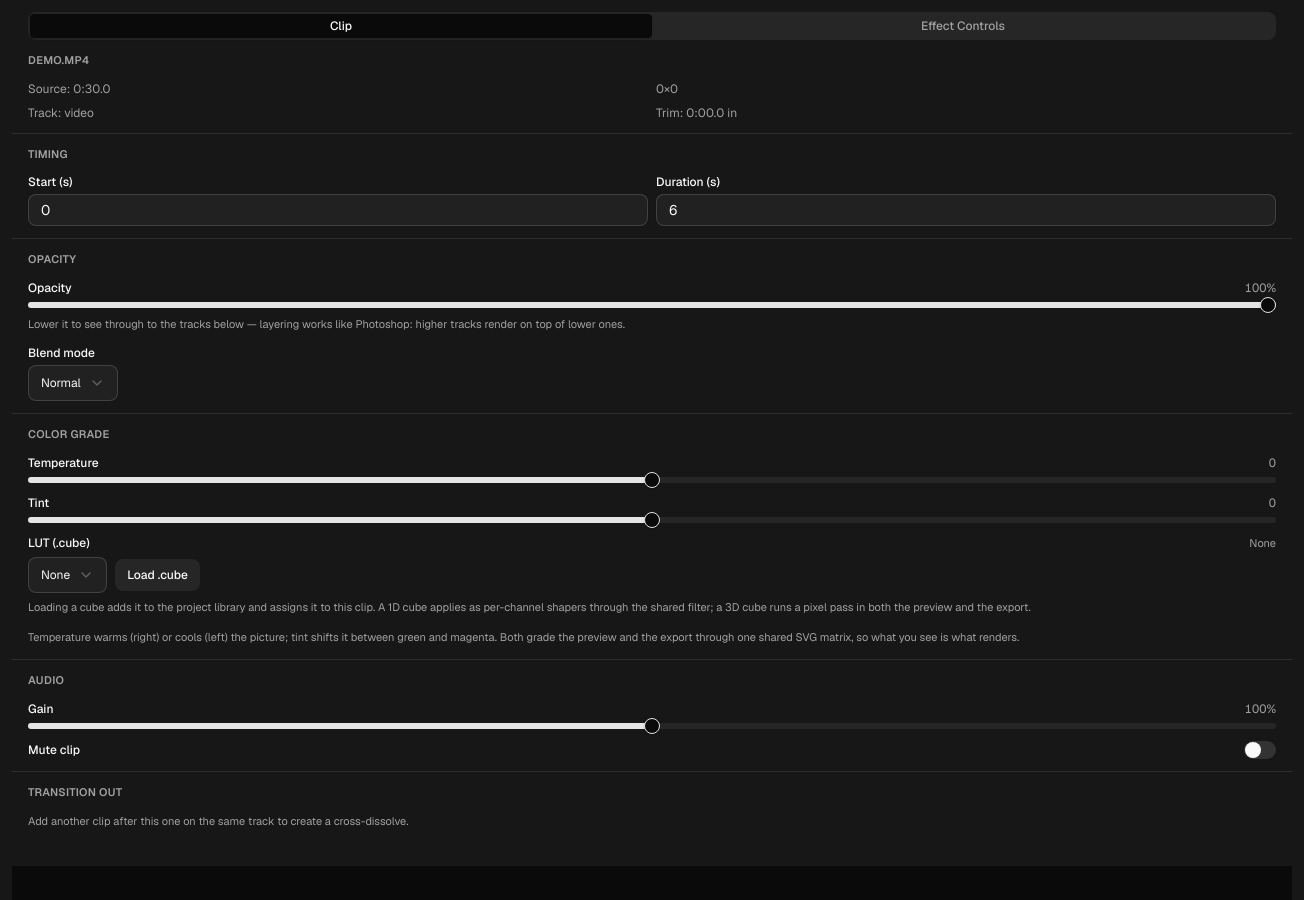
Test: InspectorPanel tabs › names every inspector slider thumb for assistive tech
Expected: the slider named "Temperature" is shown, x1=644 y1=472 x2=660 y2=488
Expected: the slider named "Tint" is shown, x1=644 y1=512 x2=660 y2=528
Click the tab with test id "inspector-tab-effects" at x=963, y=26, box x1=652 y1=14 x2=1274 y2=38
(page scrolled)
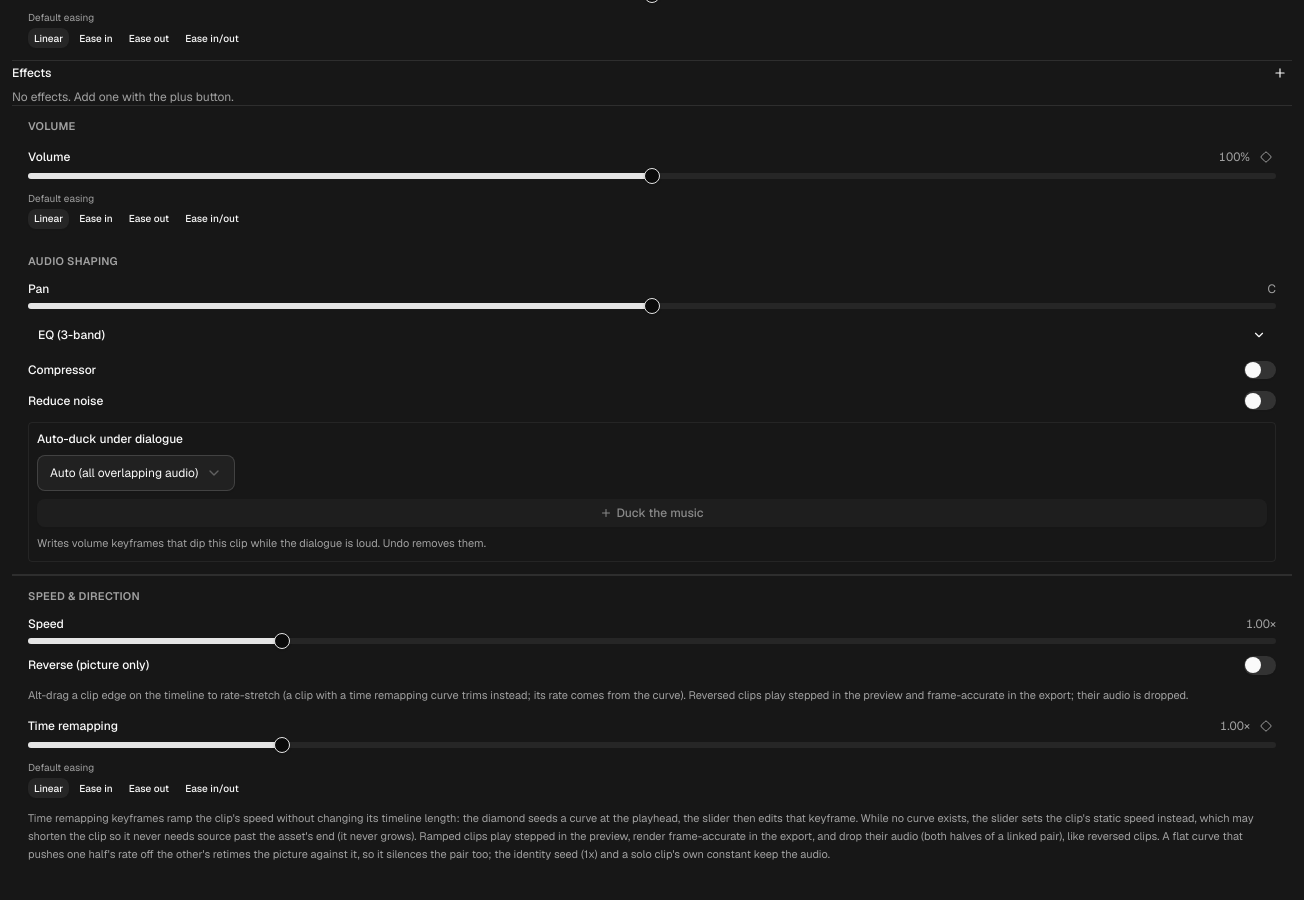
Result: the slider named "Clip speed" is shown at x1=274 y1=633 x2=290 y2=649
Result: the slider named "Time remapping value" is shown at x1=274 y1=737 x2=290 y2=753
